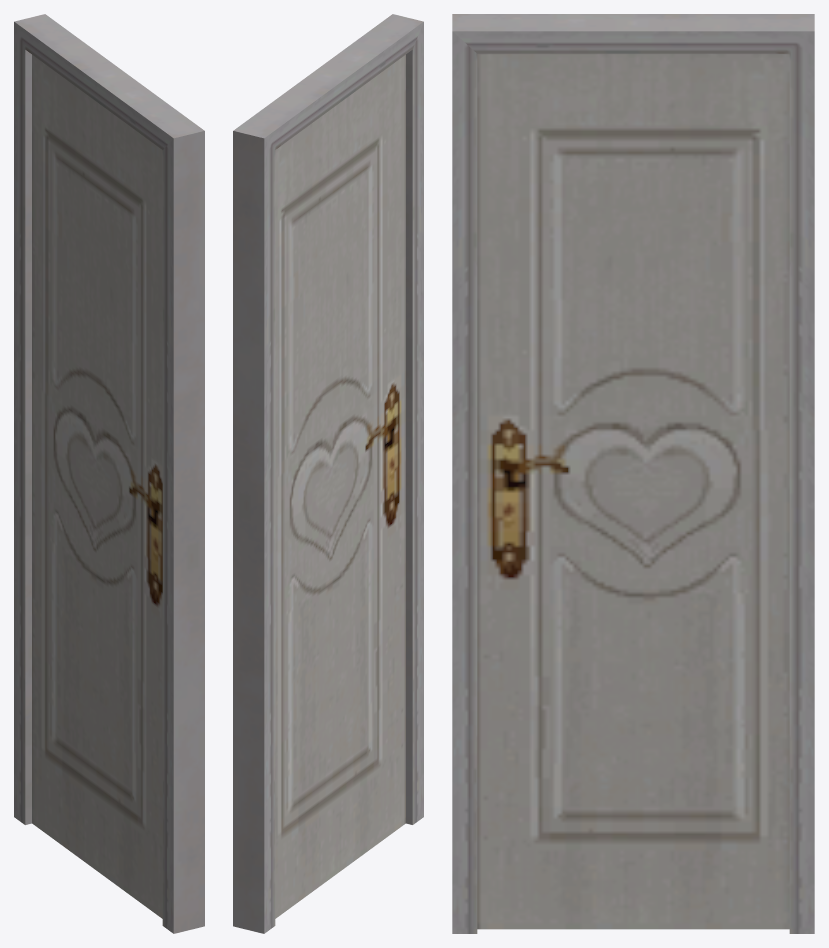
Rendered from door_2100000.FBX.
3 views of the same model, side by side, from view 1: azimuth 30°, elevation 25°; view 2: azimuth 150°, elevation 25°; view 3: azimuth 270°, elevation 25° (orthographic). The views are drawn at different scales.
Parts seen in each view (by area): view 1: Door_2100000; view 2: Door_2100000; view 3: Door_2100000.
Boxes of the visible parts, x1,y1,x2,y2 form: Door_2100000: (14, 14, 204, 933); Door_2100000: (233, 14, 423, 933); Door_2100000: (452, 14, 814, 933).
Size of the model in its own units: 9.02 by 220 by 80.
